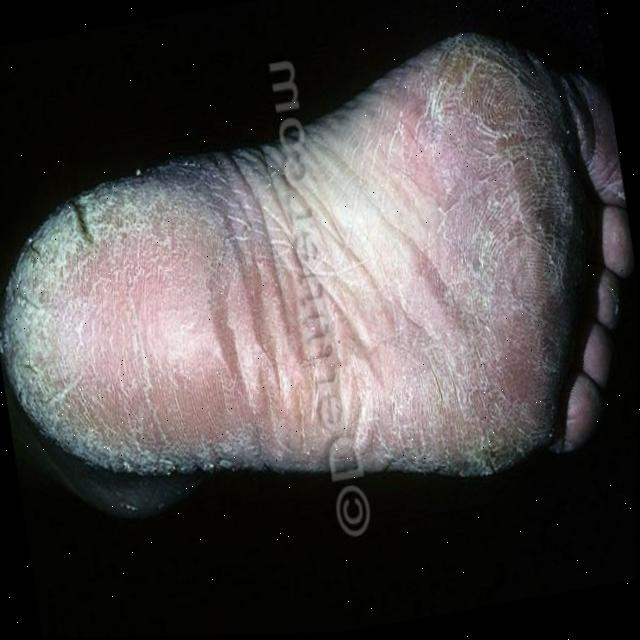Eczema: (0, 72, 614, 537)
